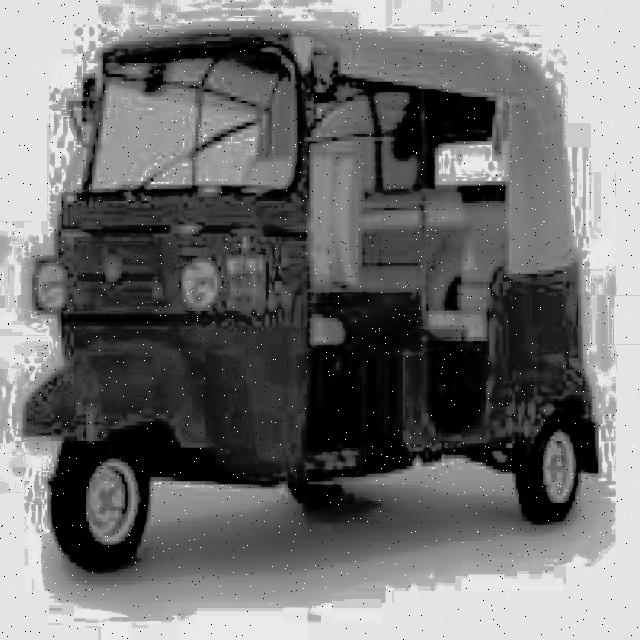Auto-Rickshaw: (20, 15, 602, 574)
